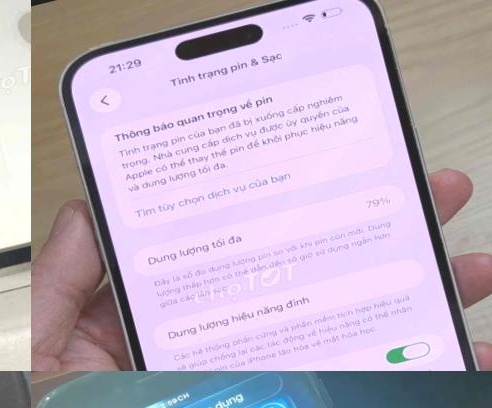scratch: (31, 389, 62, 408)
